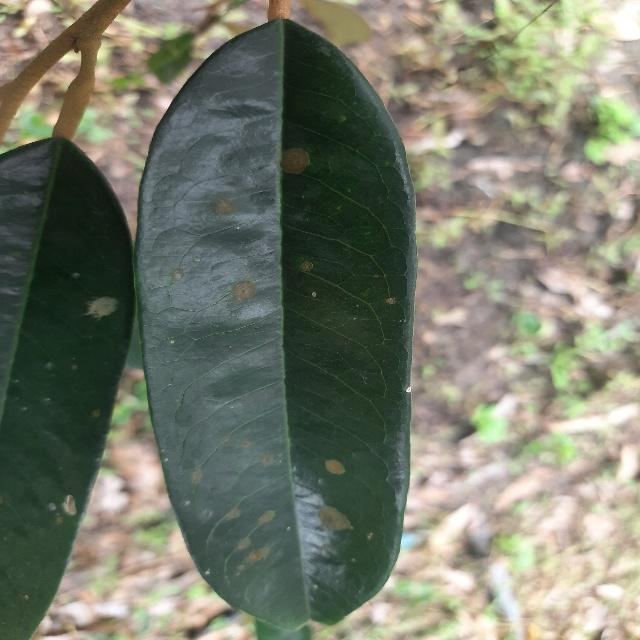Algal Leaf Spot: (129, 17, 422, 640)
